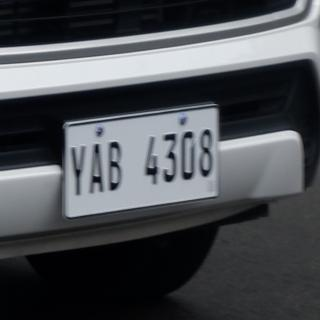license: (64, 106, 220, 219)
